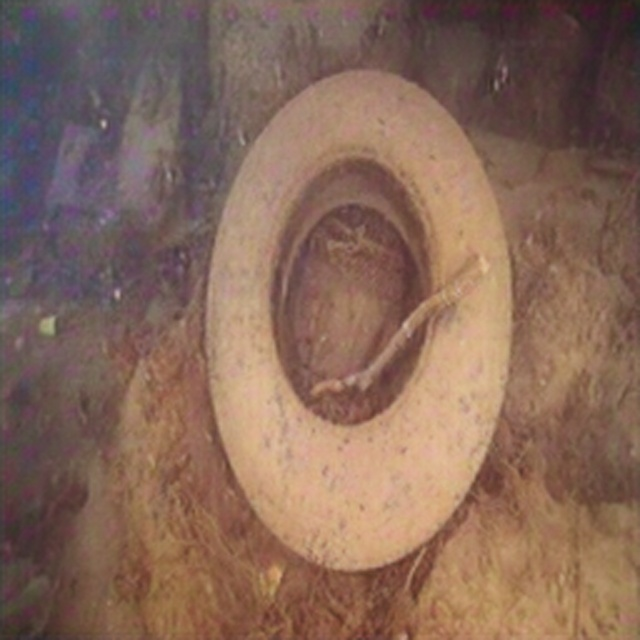mine: (202, 64, 512, 572)
